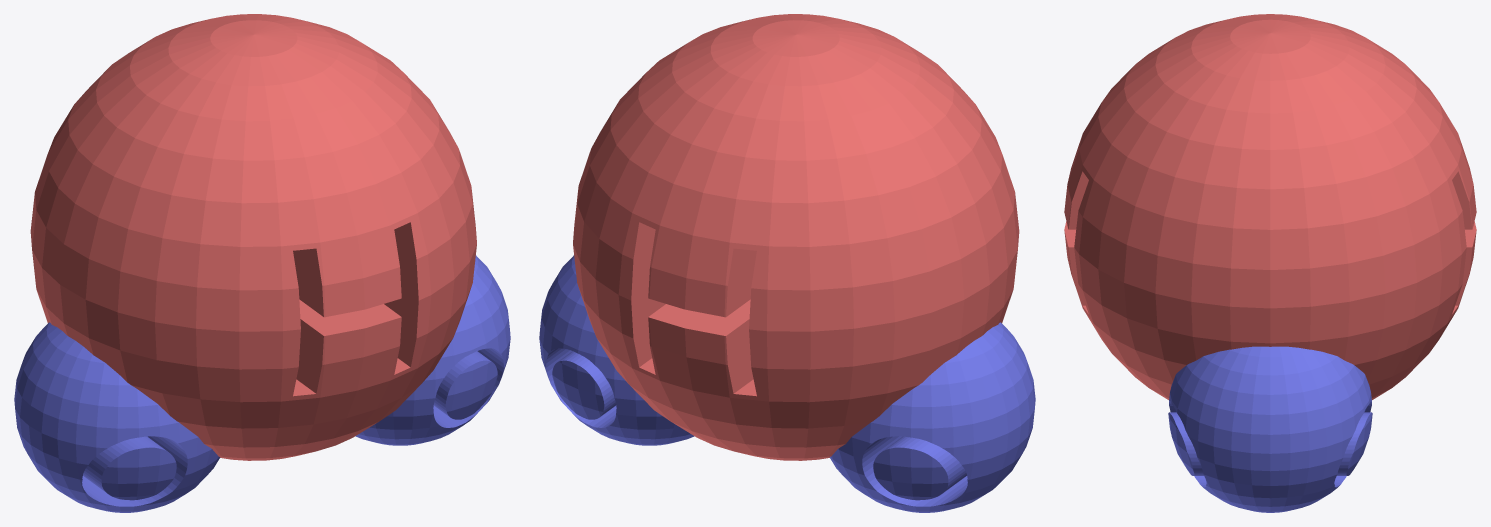
The model's file is DaltonModel.glb.
3 renders of one model, left to right at view 1: azimuth 30°, elevation 25°; view 2: azimuth 150°, elevation 25°; view 3: azimuth 270°, elevation 25°, orthographic. The views are drawn at different scales.
Parts seen in each view (by area): view 1: Sphere, Sphere.002, Sphere.001; view 2: Sphere, Sphere.002, Sphere.001; view 3: Sphere, Sphere.001.
Part boxes in pixels (<box>): Sphere: <box>30,14,476,460</box>; Sphere.002: <box>14,322,220,512</box>; Sphere.001: <box>355,255,510,445</box>; Sphere: <box>573,14,1019,460</box>; Sphere.002: <box>829,322,1035,512</box>; Sphere.001: <box>539,255,694,445</box>; Sphere: <box>1064,14,1476,399</box>; Sphere.001: <box>1168,346,1372,512</box>.
Size of the model in its own units: 7.87 by 7.03 by 6.5.
